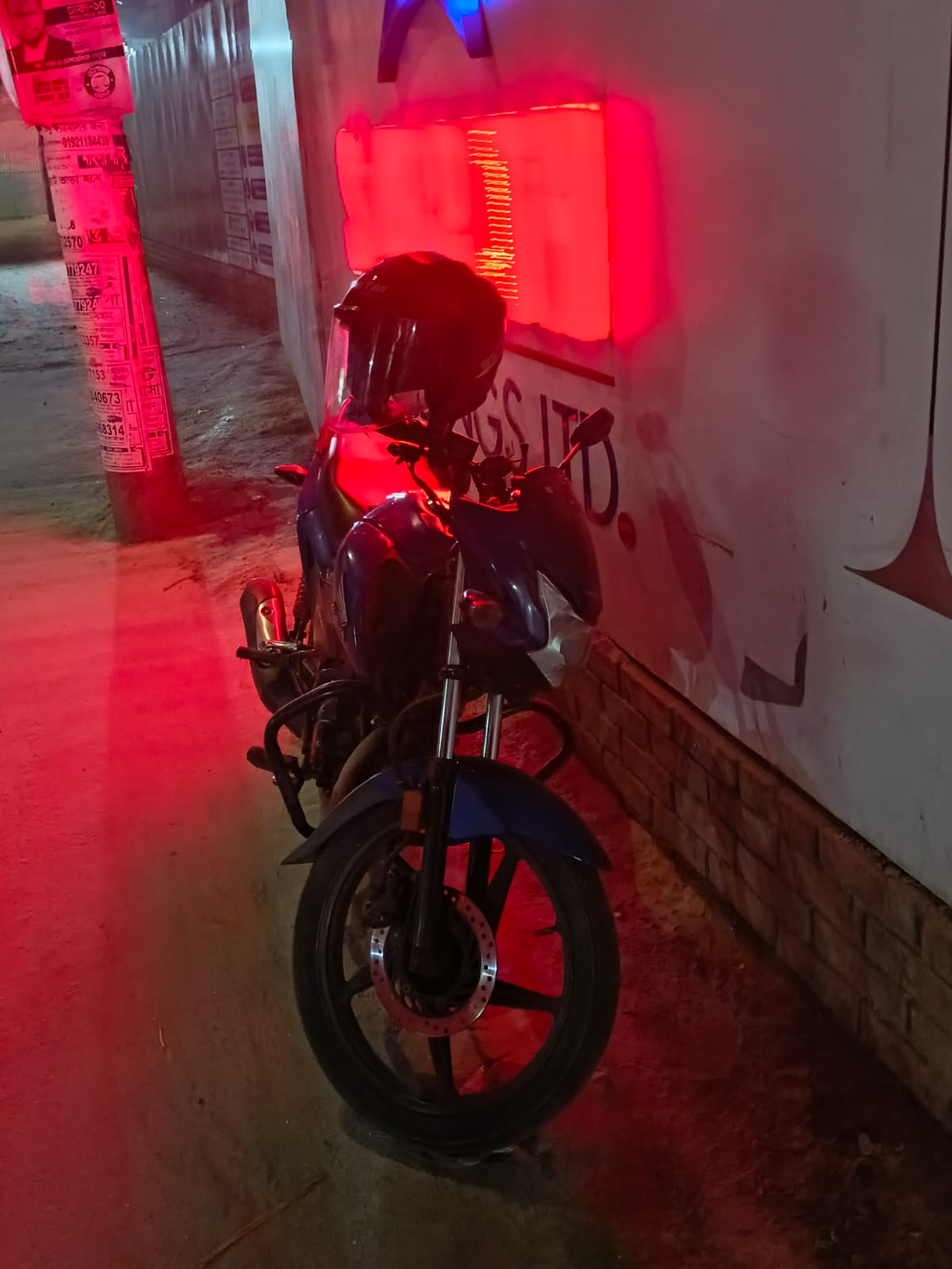Bikes: (201, 238, 791, 1210)
